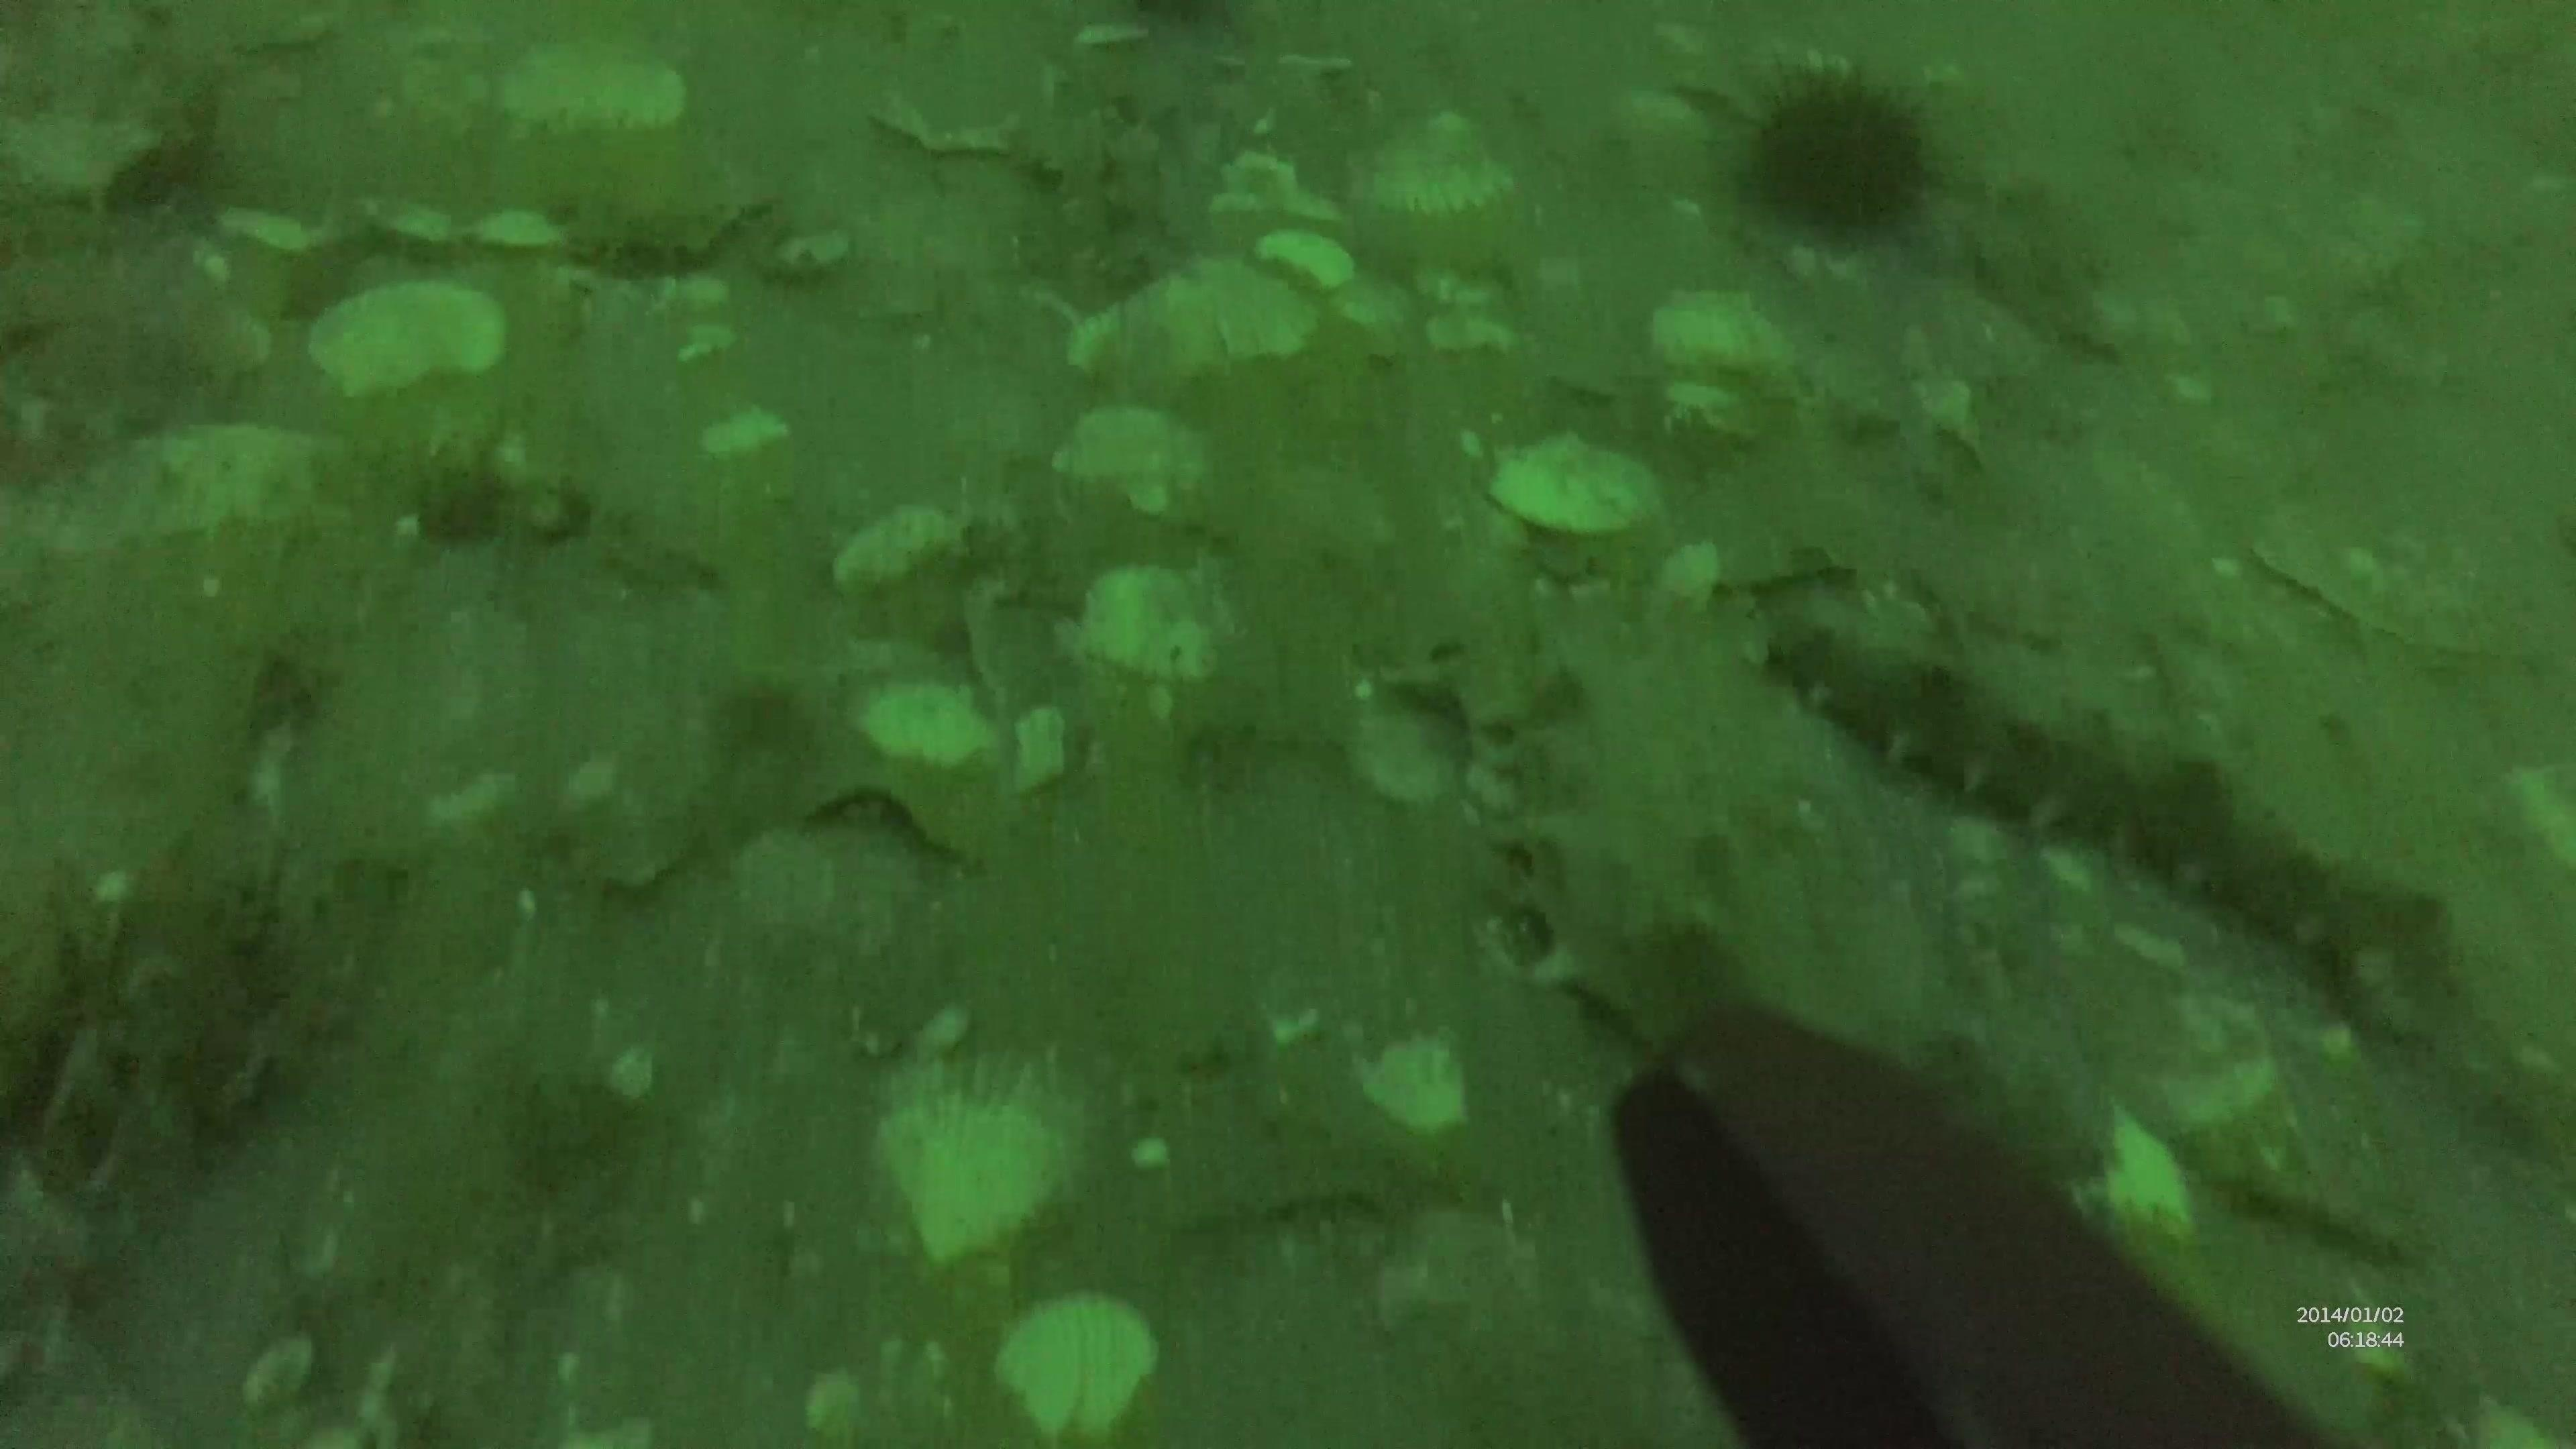echinus: (1727, 58, 1943, 248)
holothurian: (1748, 584, 2461, 996), (1428, 594, 1833, 1069)
scallop: (865, 1039, 1097, 1269), (304, 272, 510, 407), (989, 1288, 1166, 1444), (494, 34, 692, 150), (1483, 425, 1667, 545), (1343, 108, 1523, 228)
